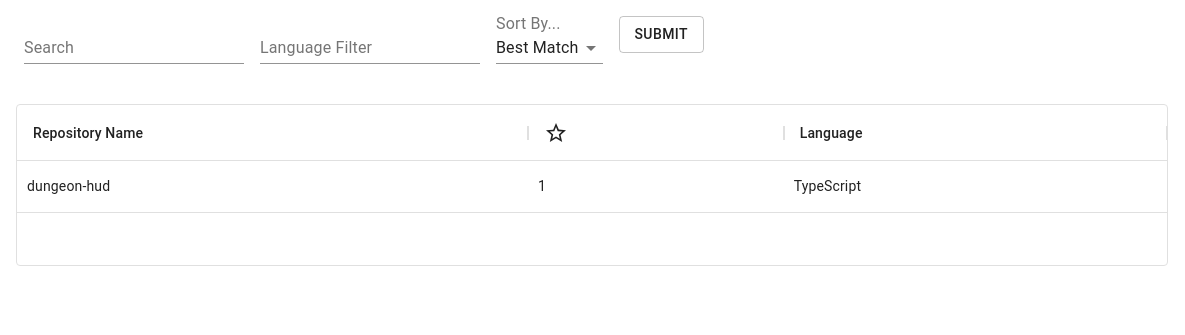
Scenario: handles server error
The width and height of the screenshot is (1185, 335).
# Submit our query
Click the button "Submit".
click(661, 34)  # box [618,16,704,52]
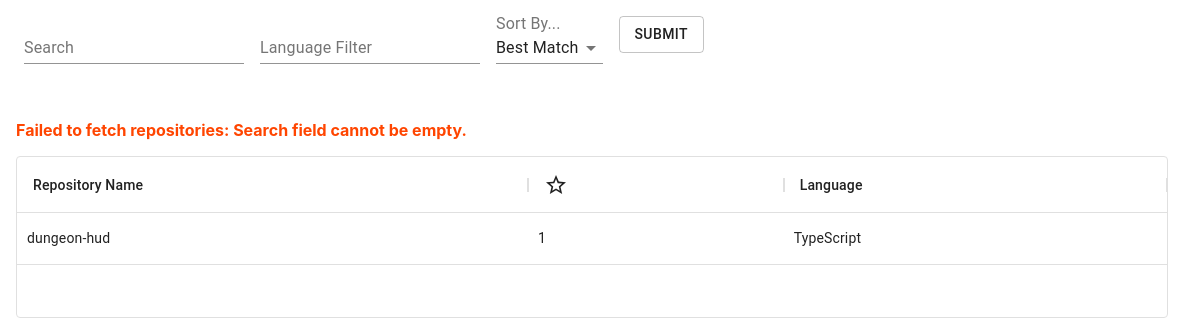
expect the message "Failed to fetch repositories: Search field cannot be empty." is shown: met, box [16,120,467,140]
